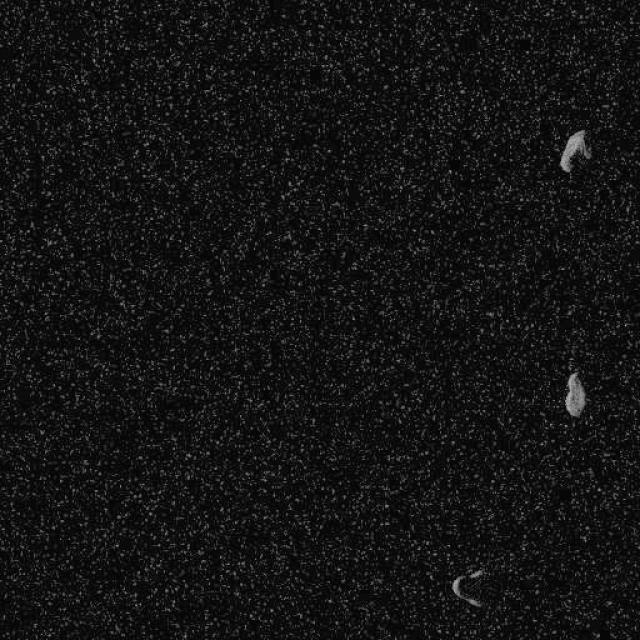D2: (450, 566, 486, 608), (558, 128, 592, 172), (564, 370, 586, 418)
